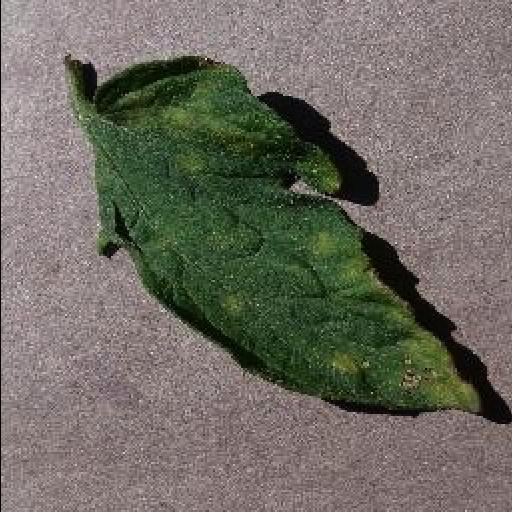disease_tomato: (93, 58, 483, 412)
